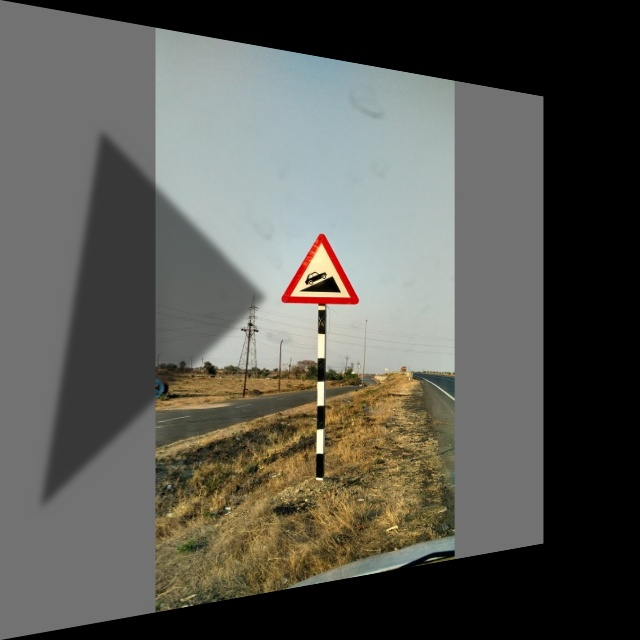Steep_Ascent: (274, 229, 363, 307)
